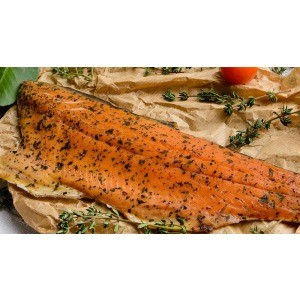salmon_brain food: (11, 124, 277, 201)
